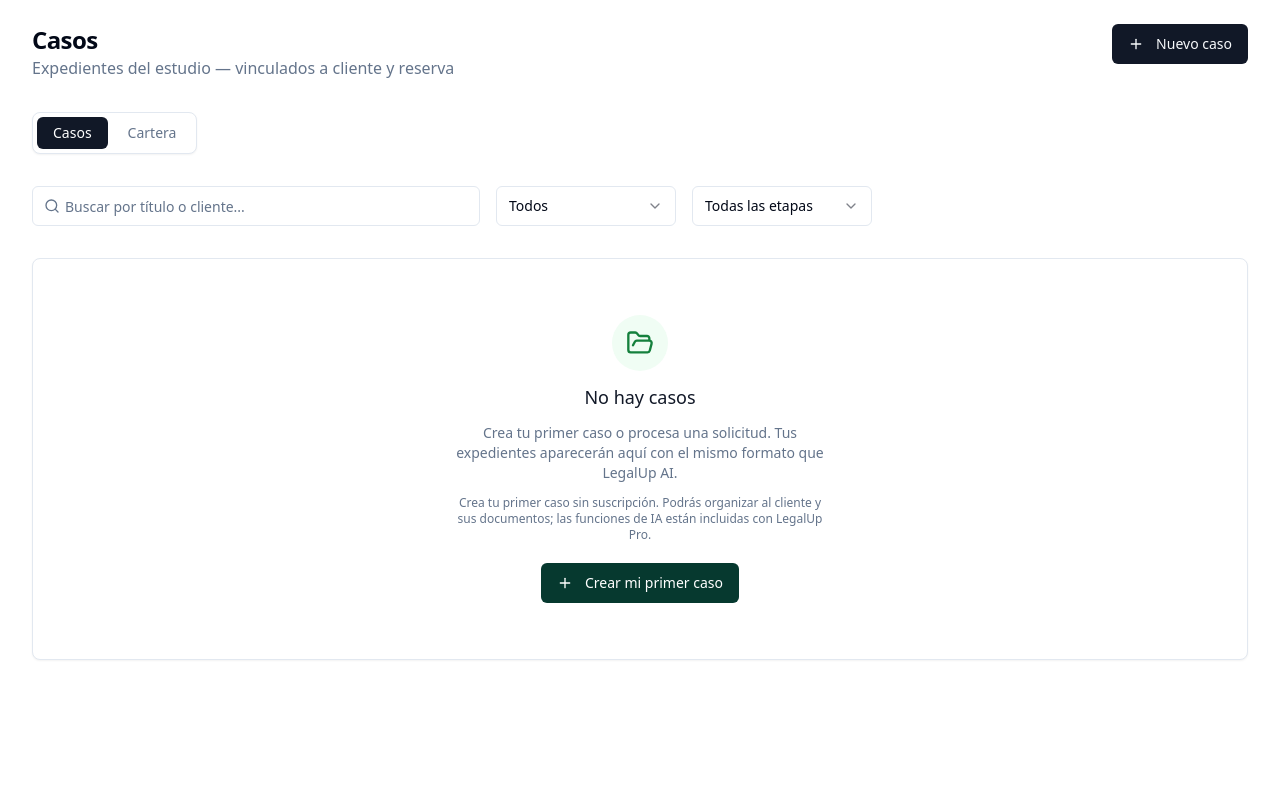
4.43C CasesPage wired tree (production regression) › A. 0 casos + fixture prod: empty-state abre formulario, modal 0
Click the button "Crear mi primer caso".
click(640, 583)  # box [541,563,739,603]
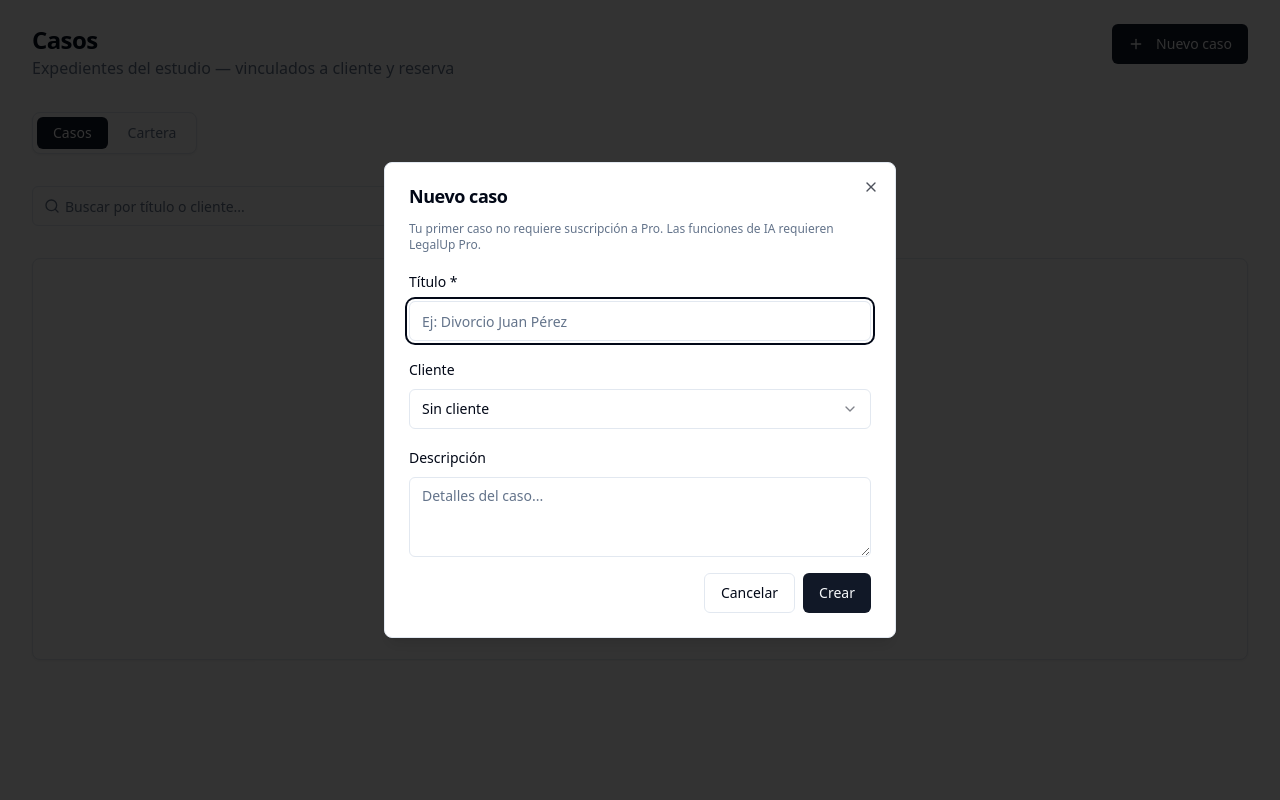
Expected: the field with placeholder "Ej: Divorcio Juan Pérez" is shown, [409,301,871,341]
